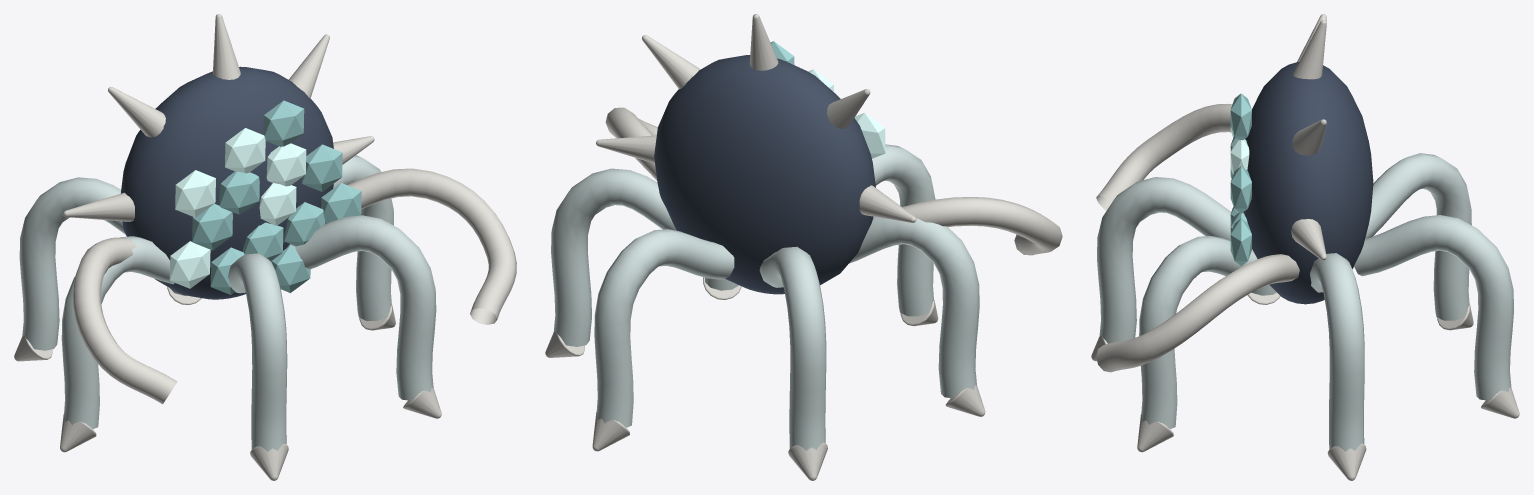
Rendered from bio_crown_stalker_02_near.glb.
3 views of the same model, side by side, from view 1: azimuth 30°, elevation 25°; view 2: azimuth 150°, elevation 25°; view 3: azimuth 270°, elevation 25° (orthographic). The views are drawn at different scales.
Parts seen in each view (by area): view 1: Faceted crown substrate, Compound lens facet.001, Crooked support.005, Crooked support.004, Compound lens facet, Crooked support.002, Scythe sensory limb.001, Scythe sensory limb, Crown radiating blade, Crooked support.003, Crooked support, Contact spur.004 (+3 smaller); view 2: Faceted crown substrate, Crooked support.001, Crooked support, Crooked support.003, Crooked support.002, Crown radiating blade, Crooked support.004, Scythe sensory limb, Scythe sensory limb.001, Compound lens facet, Contact spur.002, Contact spur.001 (+2 smaller); view 3: Faceted crown substrate, Crooked support.001, Crooked support.004, Crooked support, Crooked support.002, Crooked support.005, Scythe sensory limb.001, Scythe sensory limb, Crown radiating blade, Compound lens facet.001, Contact spur, Contact spur.005 (+2 smaller).
Boxes of the visible parts, left/top/right/bottom form: Faceted crown substrate: left=120, top=66, right=333, bottom=299; Compound lens facet.001: left=192, top=100, right=361, bottom=294; Crooked support.005: left=287, top=215, right=436, bottom=400; Crooked support.004: left=227, top=253, right=287, bottom=451; Compound lens facet: left=169, top=128, right=306, bottom=288; Crooked support.002: left=19, top=177, right=125, bottom=350; Scythe sensory limb.001: left=347, top=168, right=516, bottom=324; Scythe sensory limb: left=72, top=237, right=177, bottom=404; Crown radiating blade: left=63, top=14, right=374, bottom=221; Crooked support.003: left=61, top=236, right=174, bottom=429; Crooked support: left=333, top=155, right=393, bottom=320; Contact spur.004: left=250, top=444, right=288, bottom=480; Faceted crown substrate: left=654, top=55, right=875, bottom=294; Crooked support.001: left=594, top=229, right=734, bottom=427; Crooked support: left=551, top=168, right=676, bottom=346; Crooked support.003: left=849, top=216, right=979, bottom=398; Crooked support.002: left=759, top=246, right=826, bottom=450; Crown radiating blade: left=596, top=14, right=916, bottom=222; Crooked support.004: left=872, top=144, right=935, bottom=316; Scythe sensory limb: left=902, top=197, right=1062, bottom=255; Scythe sensory limb.001: left=605, top=107, right=657, bottom=180; Compound lens facet: left=808, top=69, right=885, bottom=158; Contact spur.002: left=788, top=442, right=827, bottom=480; Contact spur.001: left=592, top=412, right=629, bottom=451; Faceted crown substrate: left=1243, top=62, right=1373, bottom=304; Crooked support.001: left=1354, top=215, right=1513, bottom=400; Crooked support.004: left=1097, top=177, right=1230, bottom=343; Crooked support: left=1310, top=253, right=1364, bottom=451; Crooked support.002: left=1365, top=153, right=1471, bottom=320; Crooked support.005: left=1139, top=236, right=1257, bottom=429; Scythe sensory limb.001: left=1096, top=254, right=1299, bottom=372; Scythe sensory limb: left=1096, top=103, right=1232, bottom=210; Crown radiating blade: left=1291, top=14, right=1326, bottom=260; Compound lens facet.001: left=1230, top=94, right=1251, bottom=265; Contact spur: left=1327, top=443, right=1366, bottom=480; Contact spur.005: left=1137, top=414, right=1173, bottom=452.
Size of the model in its own units: 2.58 by 2.16 by 2.27.
